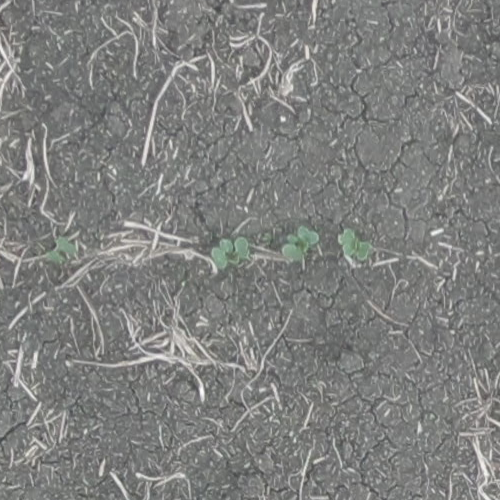isolated: (282, 226, 319, 260), (338, 228, 369, 261), (212, 237, 247, 266), (48, 236, 77, 265)
